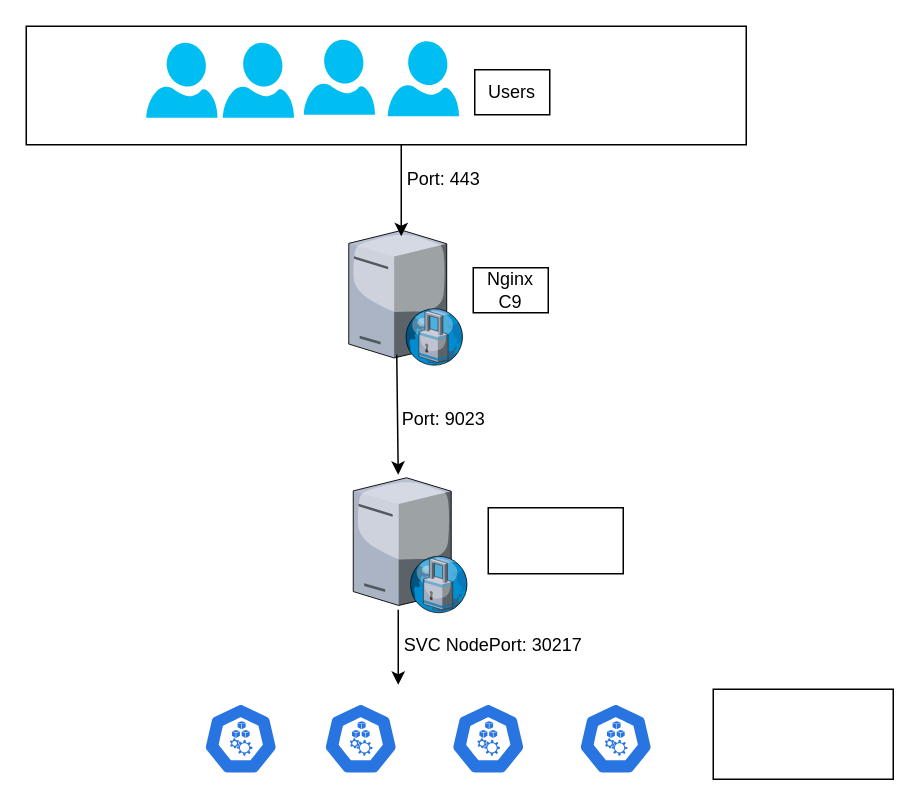
This 920x806 diagram has some shape labels left out. The shapes that lost their labels are listed below. From the top down, each one's box as (x1, y1, x2, y2) in pixels, then its label:
(487, 506, 623, 574): haproxy GTW1
(712, 688, 893, 779): k8s nodes:
